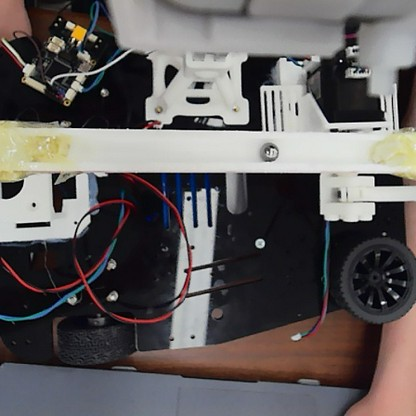ironball: (258, 140, 279, 162)
